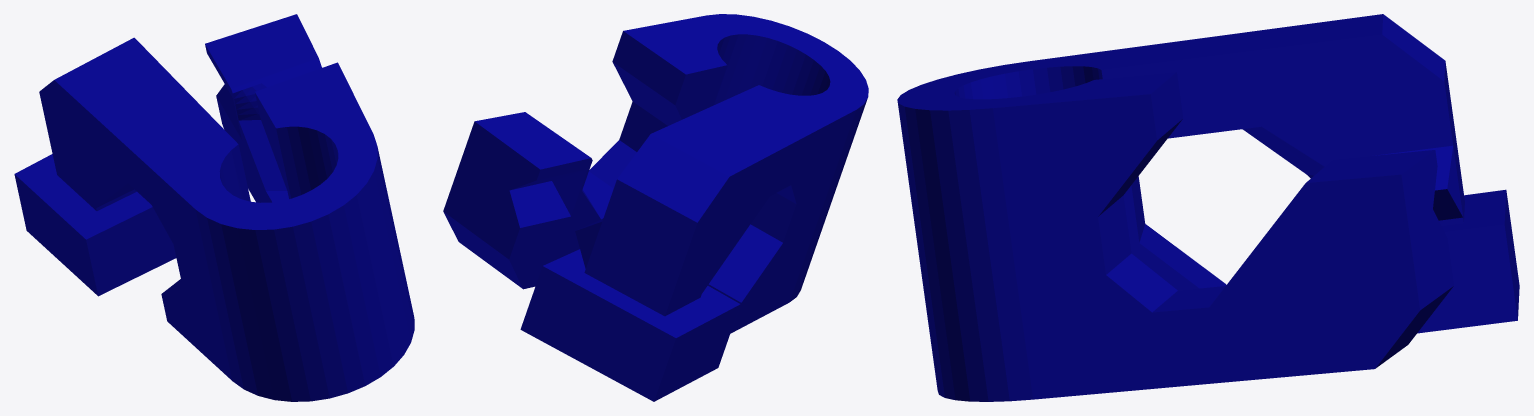
Rendered from barClamp1_0.dae.
3 views of the same model, side by side, from view 1: azimuth 30°, elevation 25°; view 2: azimuth 150°, elevation 25°; view 3: azimuth 270°, elevation 25° (orthographic). The views are drawn at different scales.
Parts seen in each view (by area): view 1: scrap2; view 2: scrap2; view 3: scrap2.
Boxes of the visible parts, x1,y1,x2,y2 form: scrap2: [14, 14, 414, 401]; scrap2: [443, 14, 868, 401]; scrap2: [897, 14, 1519, 401].
Size of the model in its own units: 0.0783 by 0.1162 by 0.072.
